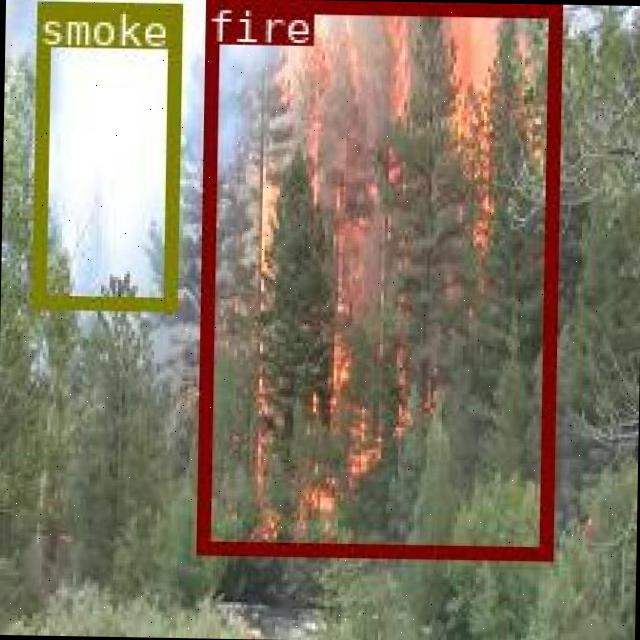fire: (195, 0, 557, 555)
smoke: (31, 0, 179, 308)
